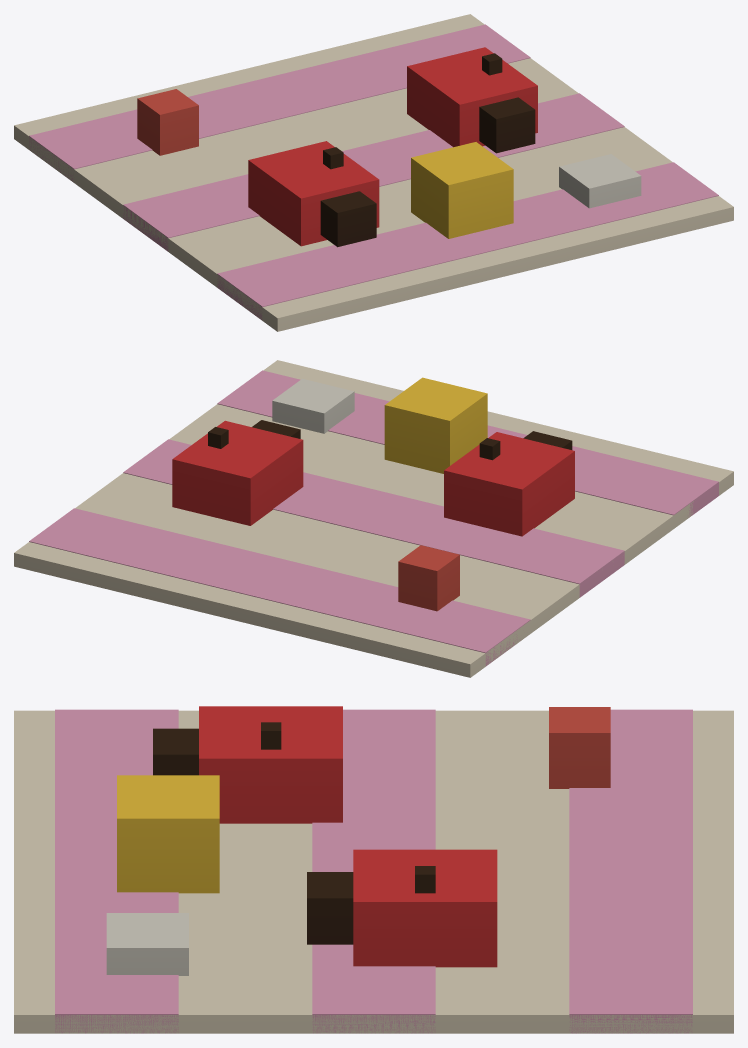
File: vignette-ladybird-picnic.glb
The picture shows the model from 3 angles, top to bottom: view 1: azimuth 30°, elevation 25°; view 2: azimuth 150°, elevation 25°; view 3: azimuth 270°, elevation 25°; orthographic projection. The views are drawn at different scales.
Parts seen in each view (by area): view 1: vignette-ladybird-picnic_body; view 2: vignette-ladybird-picnic_body; view 3: vignette-ladybird-picnic_body.
Boxes of the visible parts, bbox=[...] form: vignette-ladybird-picnic_body: bbox=[14, 14, 733, 331]; vignette-ladybird-picnic_body: bbox=[14, 360, 733, 677]; vignette-ladybird-picnic_body: bbox=[14, 706, 733, 1033].
Bounding box in the file's own units: 0.7 × 0.11 × 0.7.
